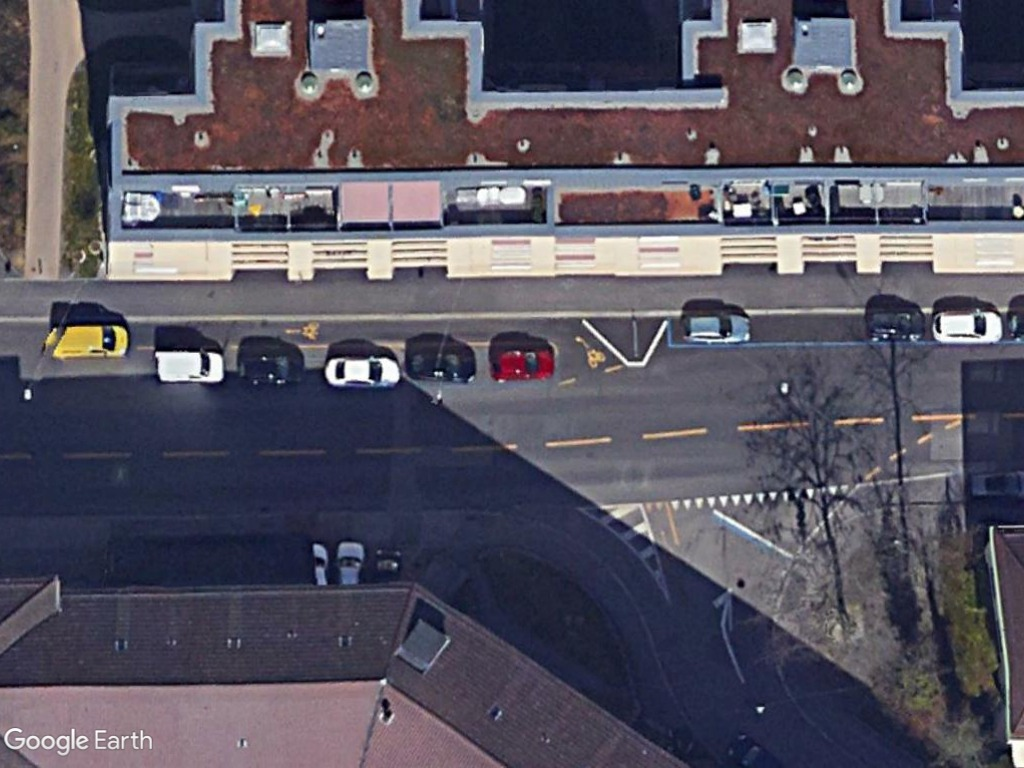car: (929, 308, 1005, 344), (323, 356, 403, 390), (489, 347, 559, 383), (680, 313, 754, 346)
van: (45, 324, 133, 360), (152, 347, 230, 385)
